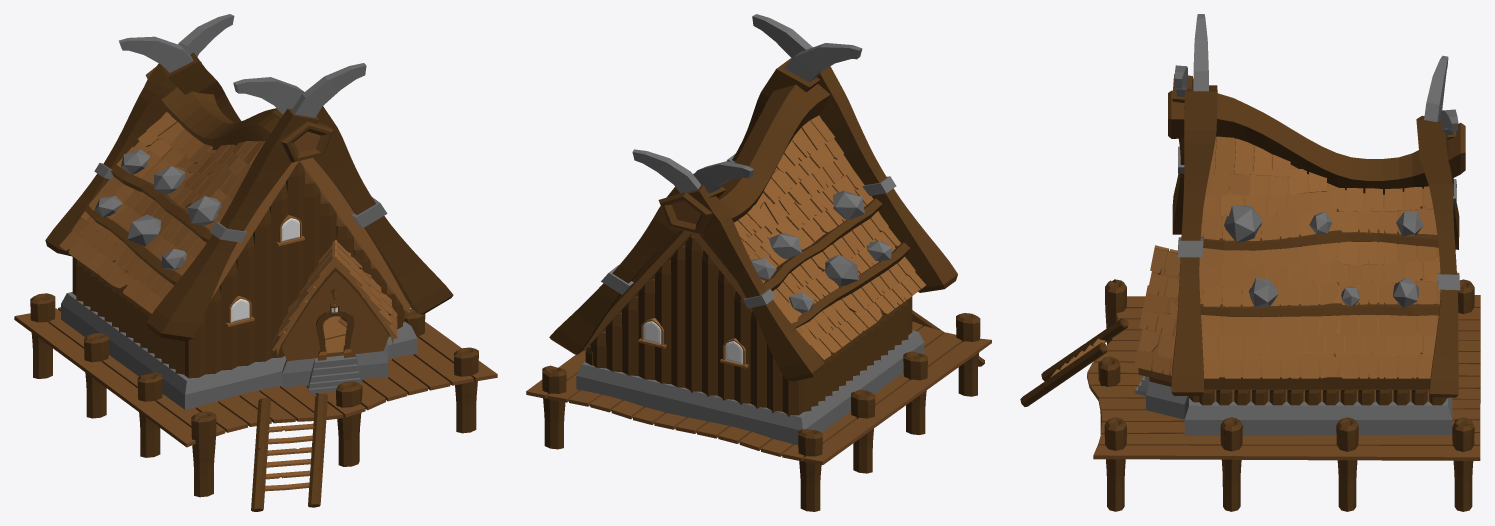
File: A_BaseB.fbx
The picture shows the model from 3 angles, left to right: view 1: azimuth 30°, elevation 25°; view 2: azimuth 150°, elevation 25°; view 3: azimuth 270°, elevation 25°; orthographic projection. The views are drawn at different scales.
Parts seen in each view (by area): view 1: A_BaseB; view 2: A_BaseB; view 3: A_BaseB.
Boxes of the visible parts, x1=… form: A_BaseB: x1=14, y1=14, x2=497, y2=511; A_BaseB: x1=526, y1=14, x2=991, y2=511; A_BaseB: x1=1020, y1=14, x2=1480, y2=511.
Size of the model in its own units: 922 by 1060 by 1120.
